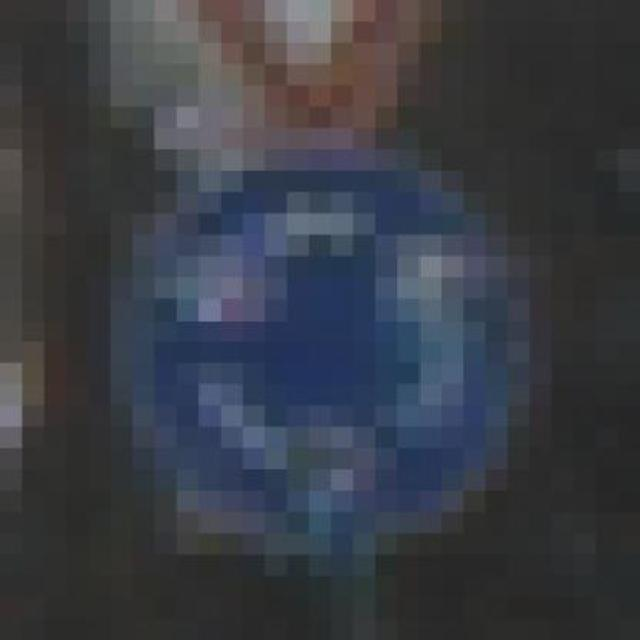Round-About: (89, 128, 552, 597)
